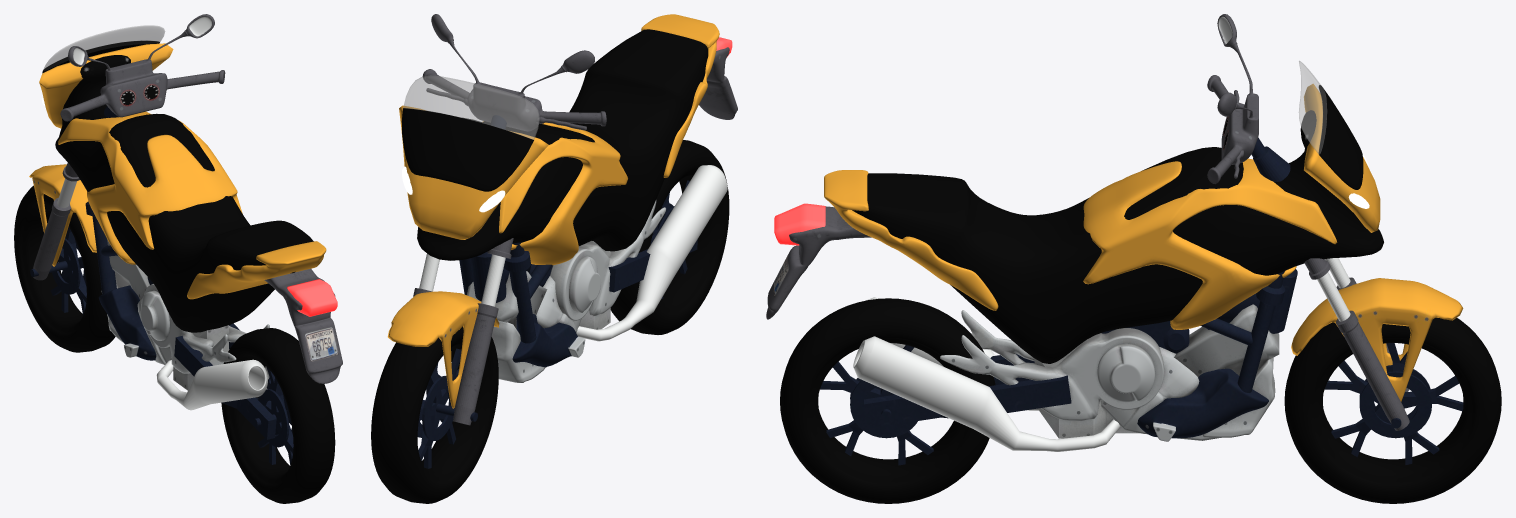
The model's file is ratchet.glb.
3 views of the same model, side by side, from view 1: azimuth 30°, elevation 25°; view 2: azimuth 150°, elevation 25°; view 3: azimuth 270°, elevation 25° (orthographic). The views are drawn at different scales.
Visible parts, largest first — view 1: Main.001, Paint, Shiny_props, Wheels.002, Wheels.001, Black_props, Engine1.001, Glass.001, Black_props.001, Black_props.002, Lights.001; view 2: Main.001, Paint, Shiny_props, Glass.001, Wheels.001, Engine1.001, Wheels.002, Black_props, Black_props.001, Lights.001; view 3: Main.001, Paint, Shiny_props, Wheels.002, Engine1.001, Wheels.001, Black_props, Black_props.001, Glass.001, Black_props.002, Lights.001.
Part boxes in pixels (x1,y1,x2,y2): Main.001: (55,55,313,332); Paint: (29,43,326,299); Shiny_props: (33,14,342,410); Wheels.002: (221,328,335,503); Wheels.001: (14,185,115,352); Black_props: (85,106,291,439); Engine1.001: (101,239,269,390); Glass.001: (42,25,165,73); Black_props.001: (30,226,86,315); Black_props.002: (253,367,293,464); Lights.001: (42,98,337,316); Main.001: (417,29,708,260); Paint: (387,14,719,408); Shiny_props: (413,14,737,425); Glass.001: (401,75,539,191); Wheels.001: (371,326,498,503); Engine1.001: (467,200,665,382); Wheels.002: (610,140,729,334); Black_props: (459,115,697,367); Black_props.001: (417,348,477,468); Lights.001: (402,37,732,212); Main.001: (852,110,1383,363); Paint: (824,84,1463,401); Shiny_props: (766,14,1409,451); Wheels.002: (780,298,995,503); Engine1.001: (940,304,1279,440); Wheels.001: (1284,317,1501,503); Black_props: (864,137,1297,441); Black_props.001: (1324,343,1463,464); Glass.001: (1298,61,1363,189); Black_props.002: (820,345,933,465); Lights.001: (774,152,1369,245).
Bounding box in the file's own units: 0.7266 × 1.54 × 2.3.
8 materials, 8 textured.
